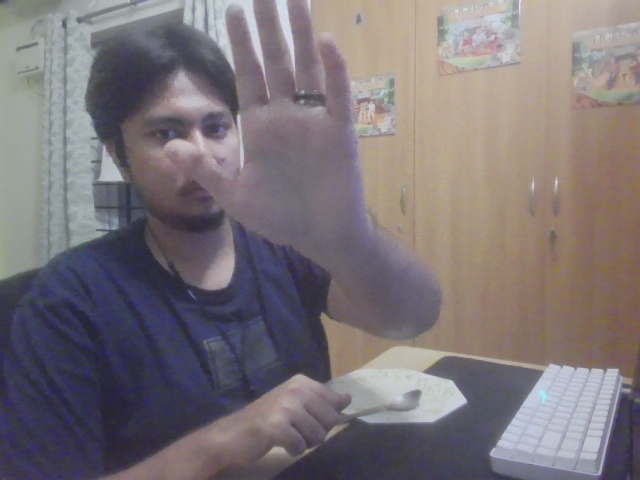hello: (163, 1, 371, 248)
